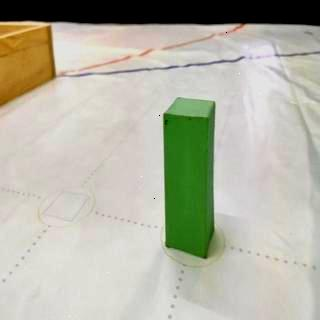greenbox: (161, 96, 219, 259)
